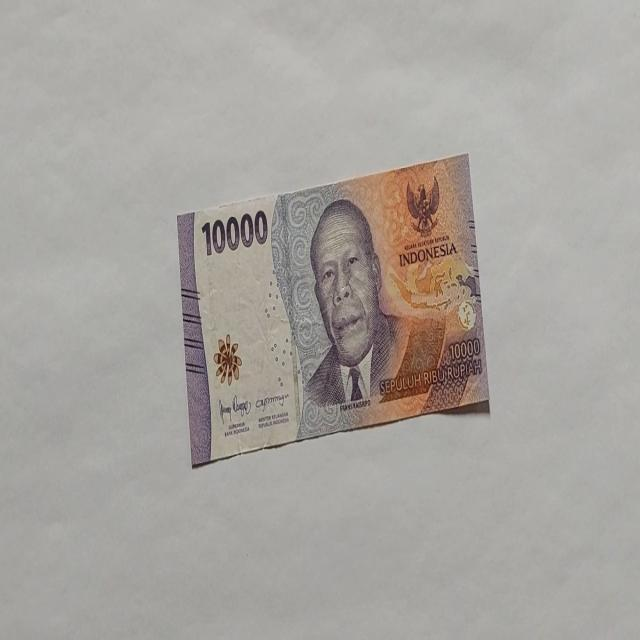sepuluh ribu rupiah: (175, 150, 490, 468)
